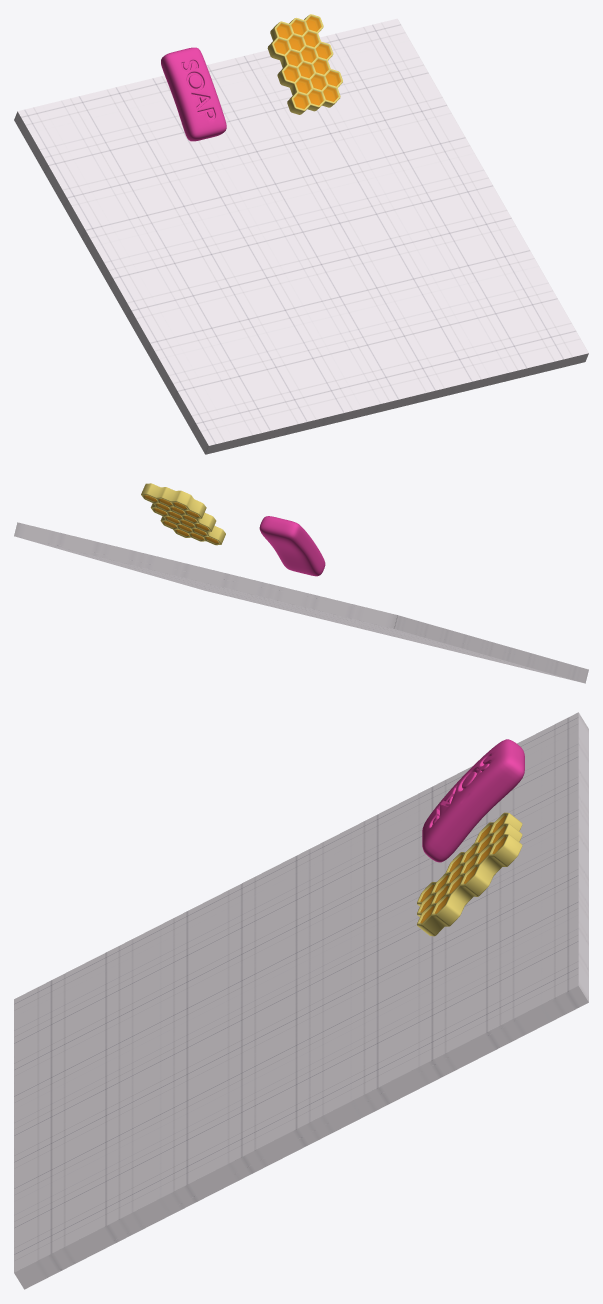
Rendered from Materials_Friction.glb.
3 views of the same model, one above another, from view 1: azimuth 30°, elevation 25°; view 2: azimuth 150°, elevation 25°; view 3: azimuth 270°, elevation 25° (orthographic). The views are drawn at different scales.
Visible parts, largest first — view 1: SlopedFloor, Soap2.001, HoneyCombWalls, HoneySurface; view 2: SlopedFloor, HoneyCombWalls, Soap2.001, HoneySurface; view 3: SlopedFloor, Soap2.001, HoneyCombWalls, HoneySurface.
Part boxes in pixels (x1=…): SlopedFloor: x1=14, y1=18, x2=588, y2=454; Soap2.001: x1=161, y1=47, x2=226, y2=141; HoneyCombWalls: x1=267, y1=14, x2=342, y2=114; HoneySurface: x1=274, y1=16, x2=340, y2=108; SlopedFloor: x1=14, y1=522, x2=588, y2=683; HoneyCombWalls: x1=141, y1=483, x2=225, y2=545; Soap2.001: x1=259, y1=516, x2=325, y2=576; HoneySurface: x1=144, y1=495, x2=218, y2=543; SlopedFloor: x1=14, y1=712, x2=588, y2=1289; Soap2.001: x1=422, y1=739, x2=524, y2=862; HoneyCombWalls: x1=417, y1=812, x2=522, y2=936; HoneySurface: x1=420, y1=815, x2=506, y2=923.
Bounding box in the file's own units: 10.38 × 6.64 × 9.22.
Materials: 4 (1 with a texture image).
